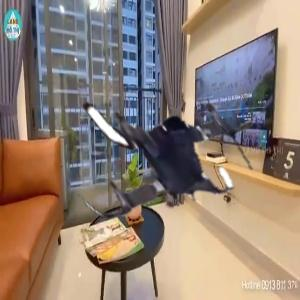drone: (55, 34, 265, 244)
